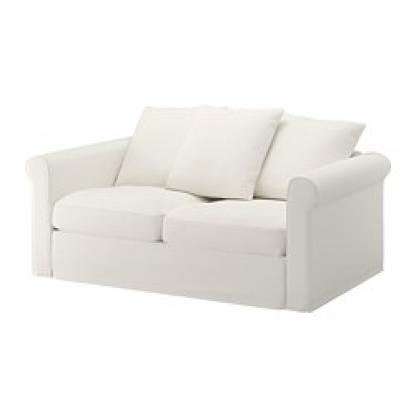Sofa: (22, 90, 391, 318)
